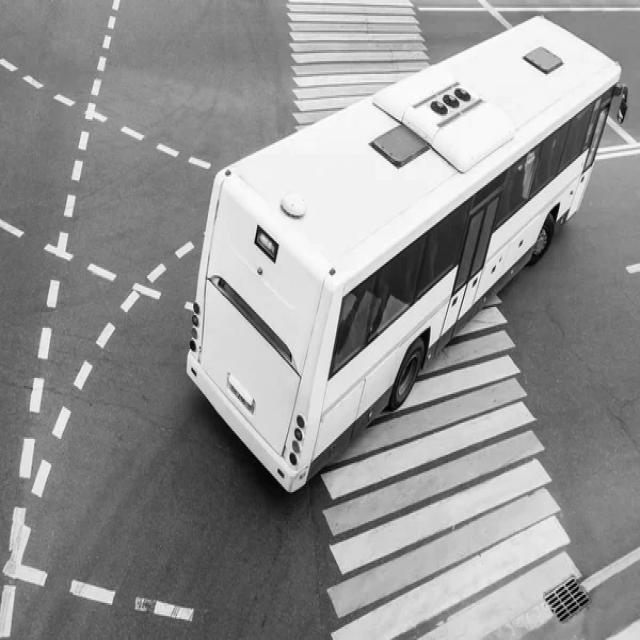Bus: (184, 7, 626, 497)
